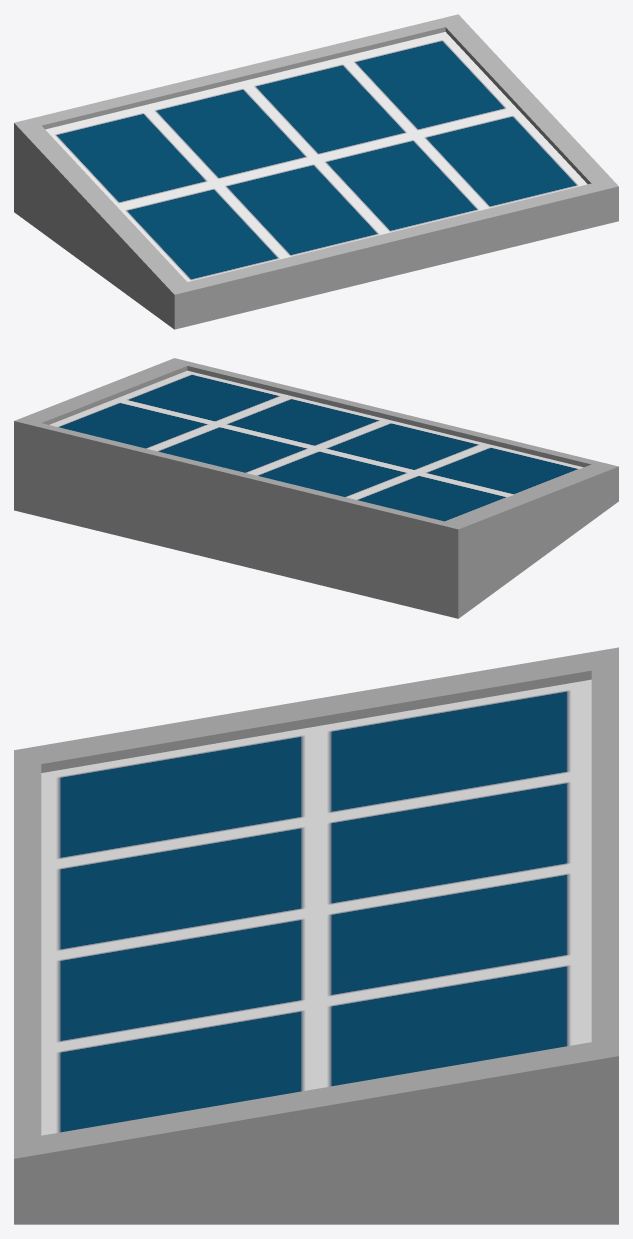
The model's file is props-roof-solar-panel.glb.
The picture shows the model from 3 angles, top to bottom: view 1: azimuth 30°, elevation 25°; view 2: azimuth 150°, elevation 25°; view 3: azimuth 270°, elevation 25°; orthographic projection. The views are drawn at different scales.
Parts seen in each view (by area): view 1: model; view 2: model; view 3: model.
Boxes of the visible parts, x1,y1,x2,y2 form: model: [14, 14, 618, 329]; model: [14, 358, 618, 618]; model: [14, 647, 618, 1224].
Size of the model in its own units: 3.26 by 0.6276 by 2.04.
1 material, 1 textured.
